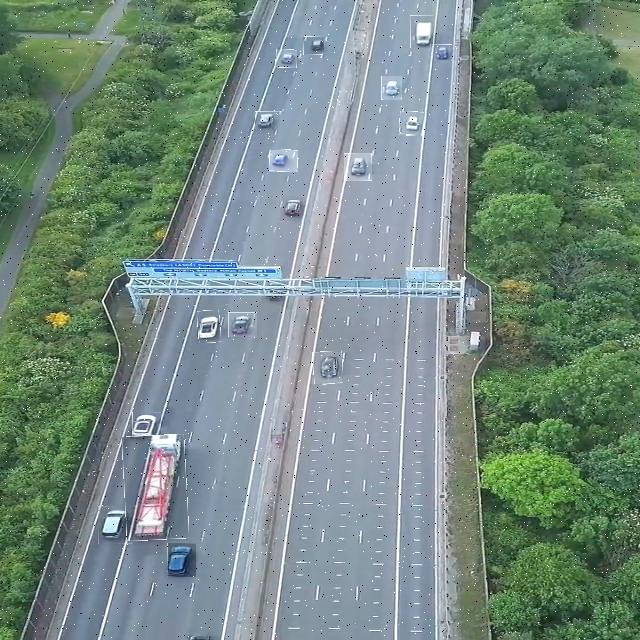Car: (98, 506, 132, 544), (167, 543, 196, 577), (312, 352, 342, 384), (132, 412, 161, 440), (344, 153, 372, 181), (228, 312, 257, 337), (198, 311, 220, 343), (280, 196, 306, 222), (269, 150, 298, 172), (400, 112, 424, 136), (256, 111, 284, 130), (381, 76, 402, 100), (276, 50, 297, 68), (303, 37, 324, 55), (430, 44, 452, 61)
Truck: (124, 435, 188, 541), (410, 15, 433, 48)
